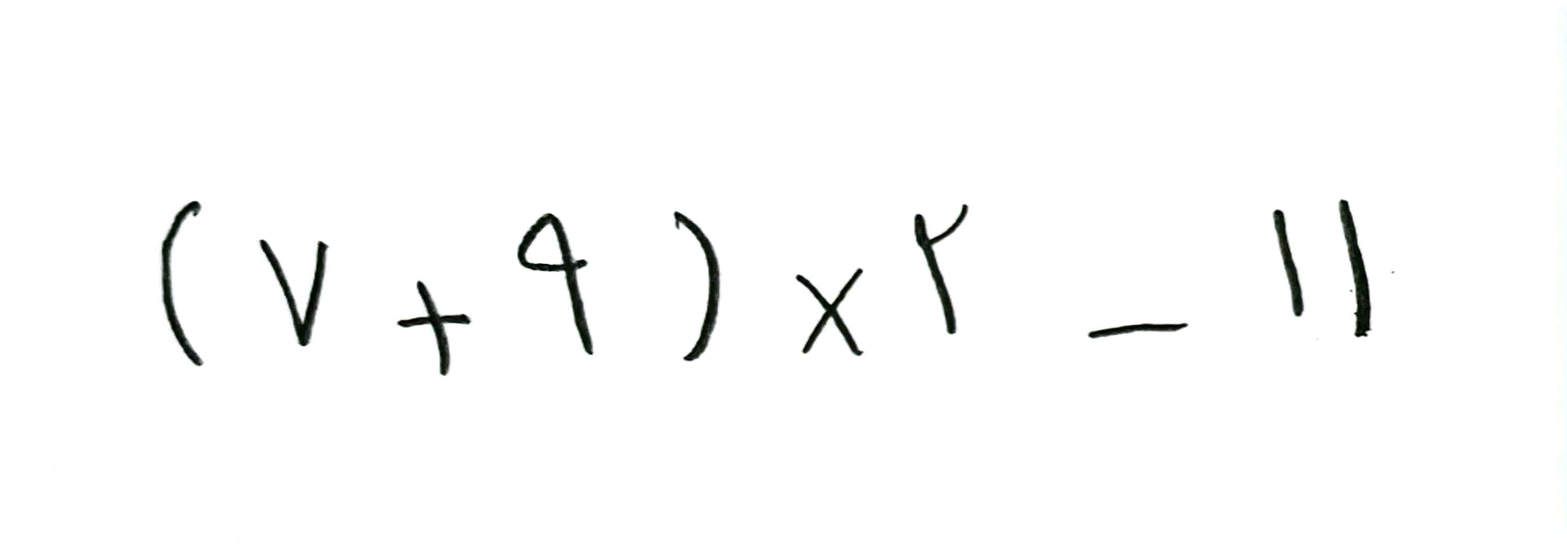character: (516, 211, 594, 356), (258, 238, 331, 348), (912, 204, 971, 336), (673, 209, 722, 363), (397, 279, 472, 376), (161, 199, 204, 368), (795, 266, 866, 358), (1336, 197, 1373, 340), (1271, 207, 1306, 318), (1087, 321, 1189, 340)
